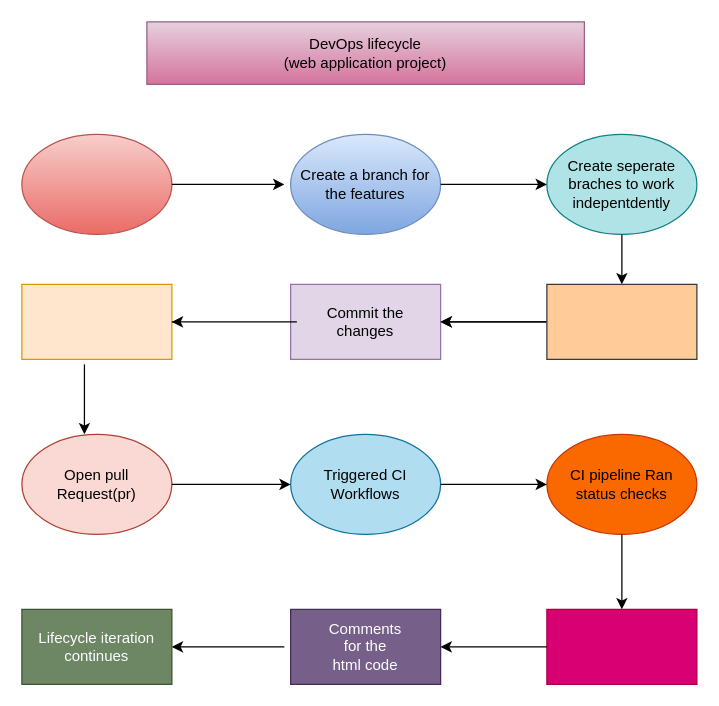
This 719x706 diagram has some shape labels left out. The shapes that lost their labels are listed below. From the top down, each one's centre as x and y in pixels, then its label:
At point 96,183: "Plannind the feature".
At point 96,321: "Push code to GitHub".
At point 621,321: "Edited the HTML file(instag.html)".
At point 621,646: "Team Collaboration".
